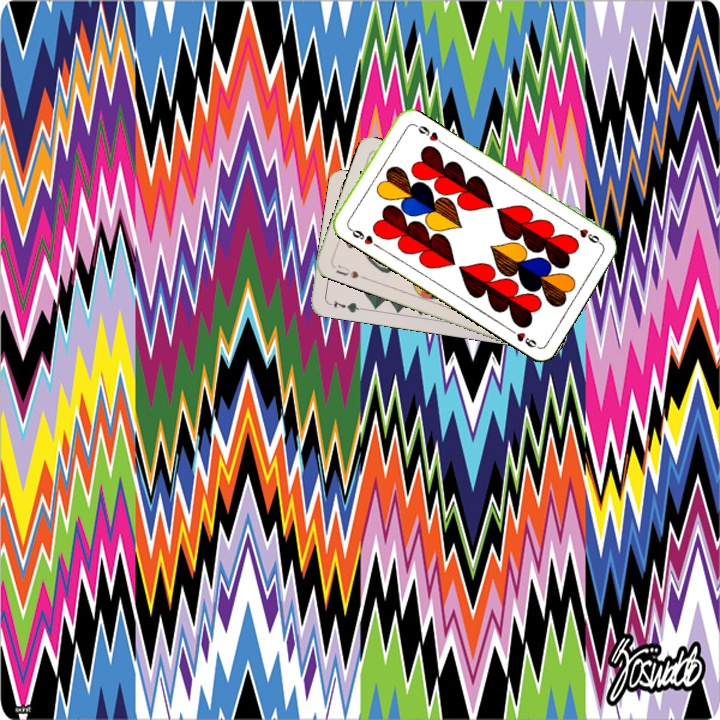G7: (329, 297, 365, 315)
H9: (344, 222, 380, 250), (568, 220, 604, 247)
SU: (332, 261, 368, 282)
